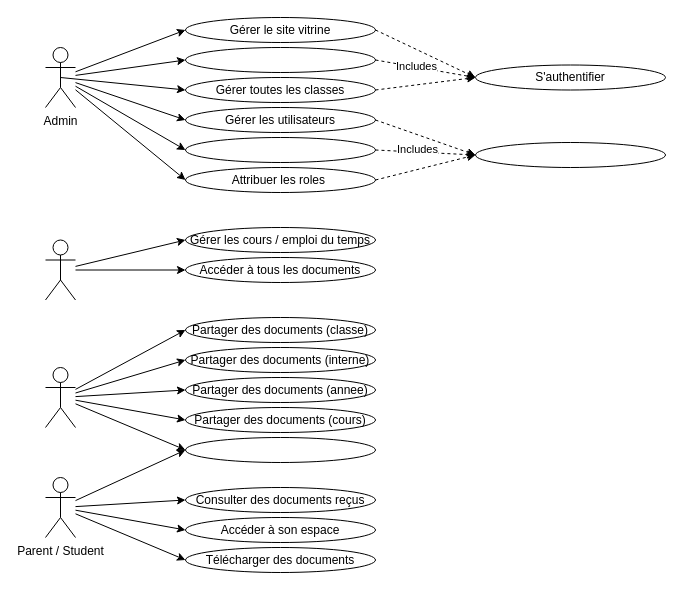
Image size: 683x590. Some labels were removed from this diagram. Each missing label, with the centre of its shape:
Activer / Désactiver des comptes: (280,149)
Consulter emploi du temps: (280,449)
Gérer les années scolaires: (280,59)
Modifier profil: (570,155)
Owner: (60,269)
Staff / Teacher: (60,397)
